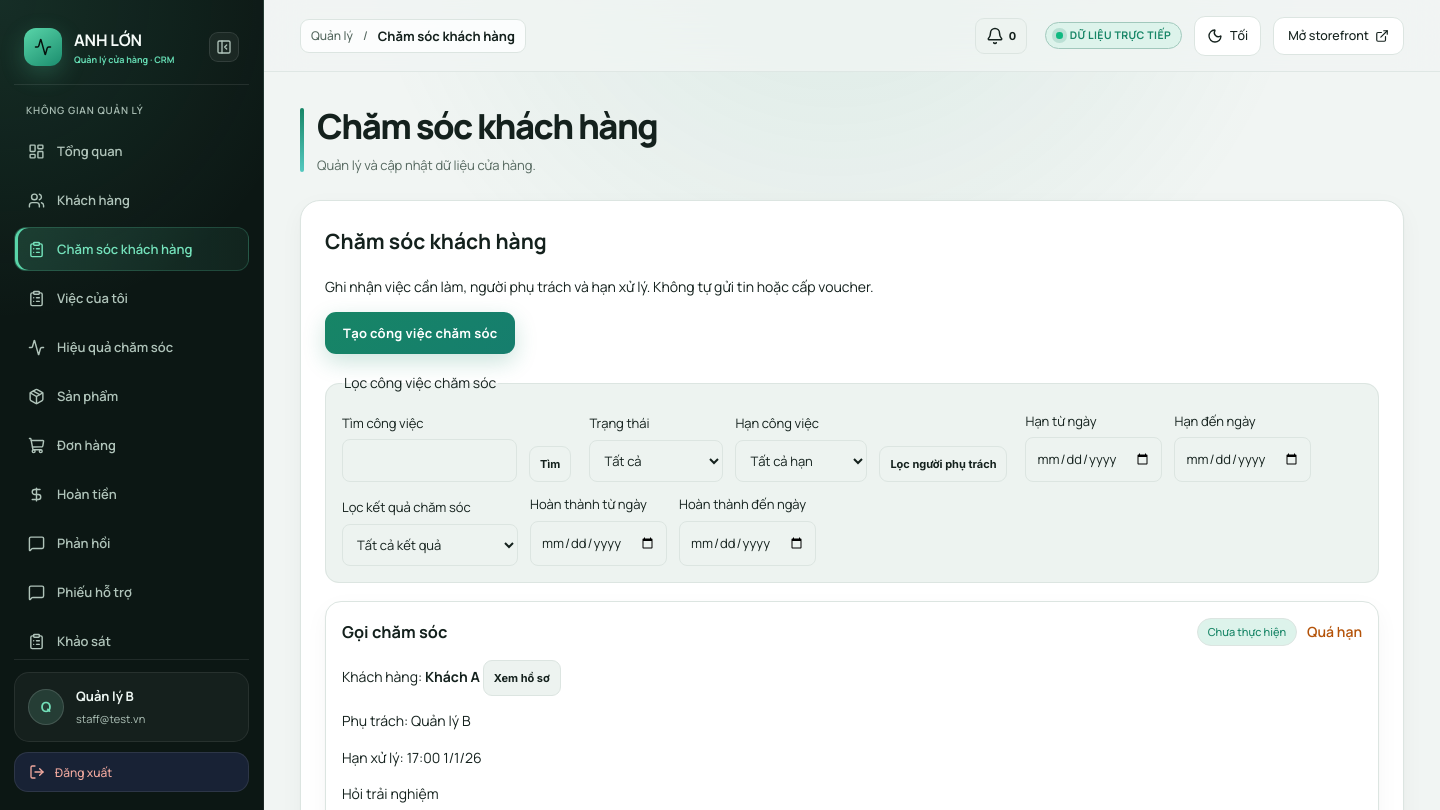
opens the care route and restores filters through URL and popstate
The image size is (1440, 810).
Check: the heading "Gọi chăm sóc" is shown, box [342, 621, 447, 643]
Check: the text "Quá hạn" is shown, box [1307, 621, 1362, 643]
Select "Đang xử lý" in the dropdown named "Lọc trạng thái chăm sóc" at (656, 461), box [589, 440, 723, 482]
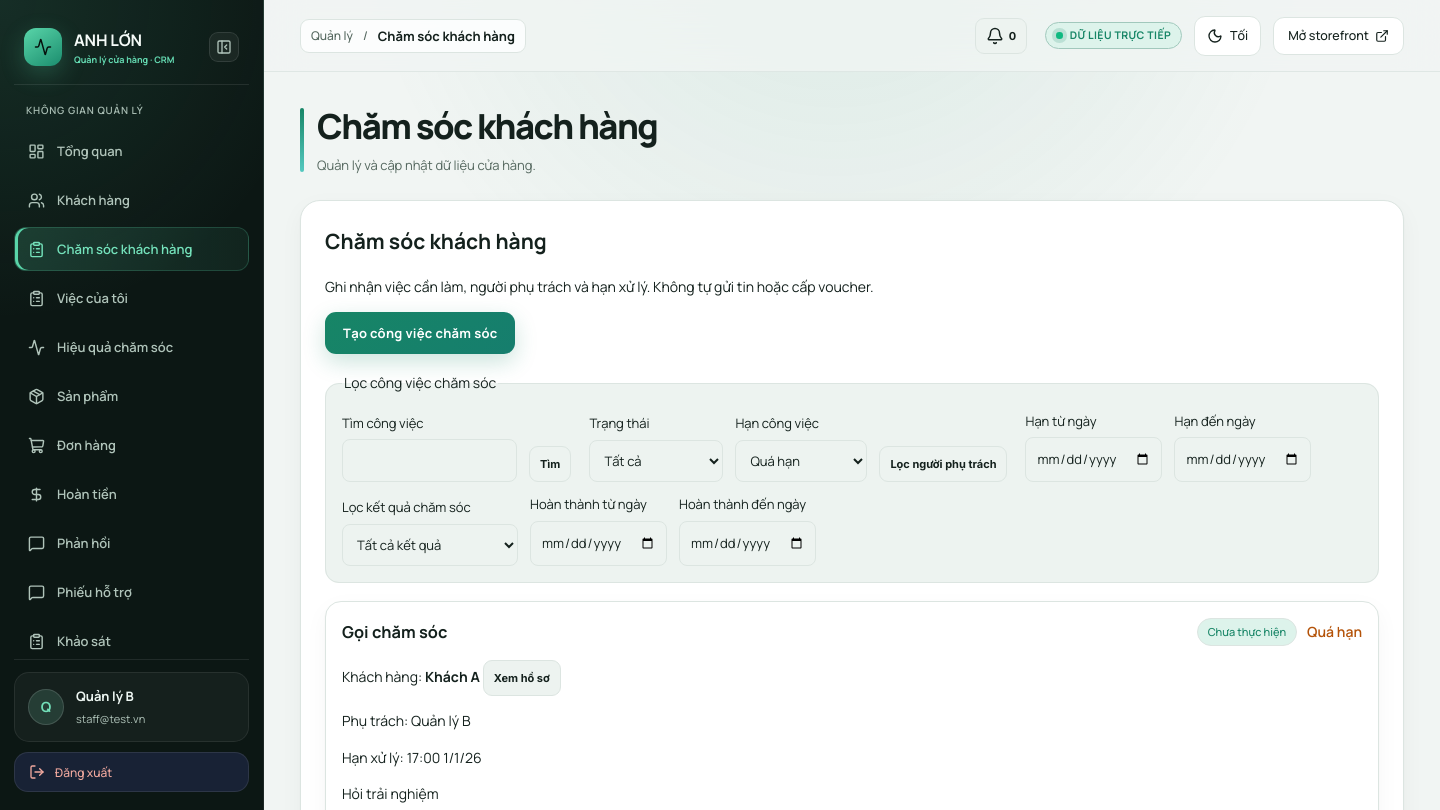
Check: the dropdown named "Lọc quá hạn" shows "Quá hạn", box [735, 440, 867, 482]
